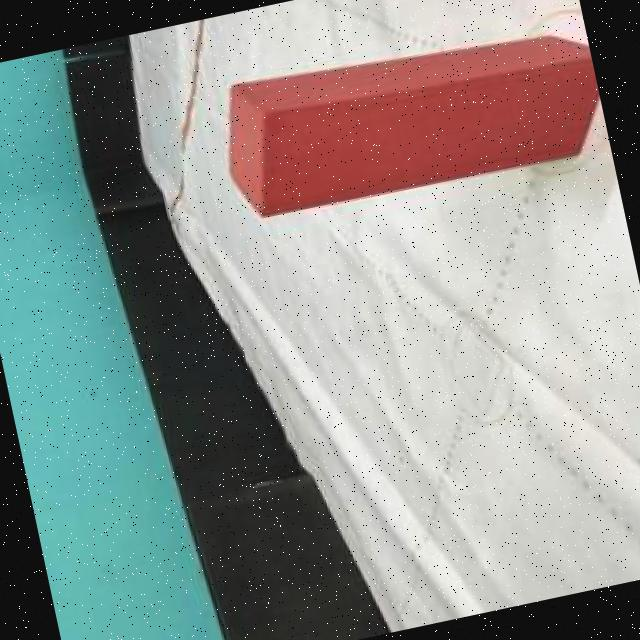redbox: (206, 11, 609, 222)
